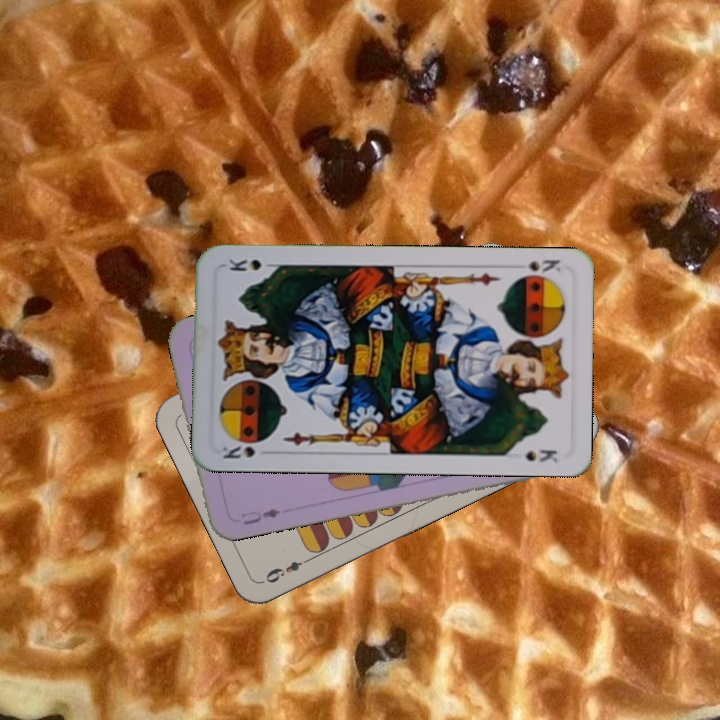E9: (261, 553, 314, 586)
EU: (237, 504, 283, 528)
SK: (218, 441, 258, 461), (522, 256, 563, 275)
